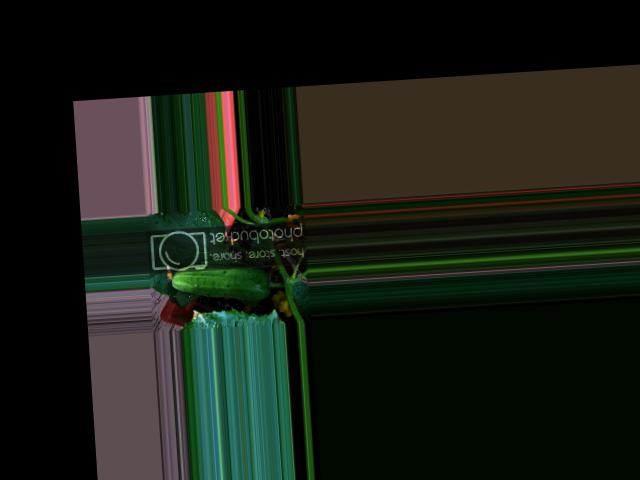cucumber: (169, 259, 269, 305)
